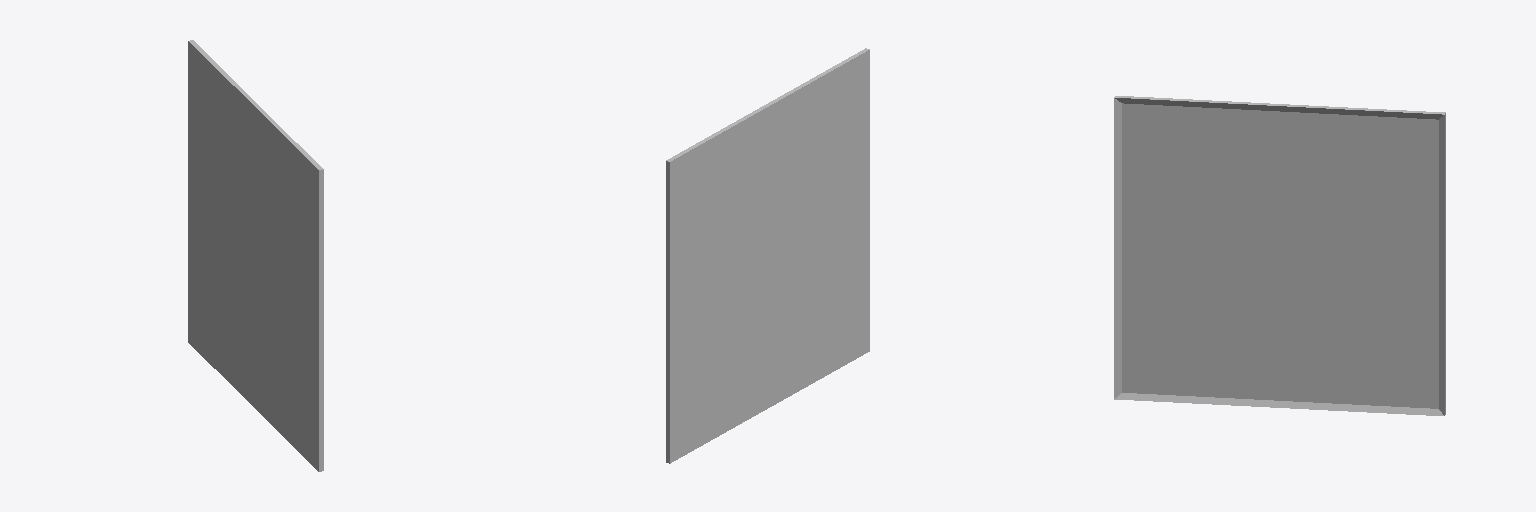
File: Painting 3.obj
3 views of the same model, side by side, from view 1: azimuth 30°, elevation 25°; view 2: azimuth 150°, elevation 25°; view 3: azimuth 270°, elevation 25° (orthographic).
Visible parts, largest first — view 1: Cube.058_Cube.051; view 2: Cube.058_Cube.051; view 3: Cube.058_Cube.051.
Part boxes in pixels (x1,y1,x2,y2): Cube.058_Cube.051: (188, 40, 323, 471); Cube.058_Cube.051: (666, 48, 869, 463); Cube.058_Cube.051: (1114, 96, 1445, 415).
Size of the model in its own units: 0.1936 by 1.43 by 1.42.